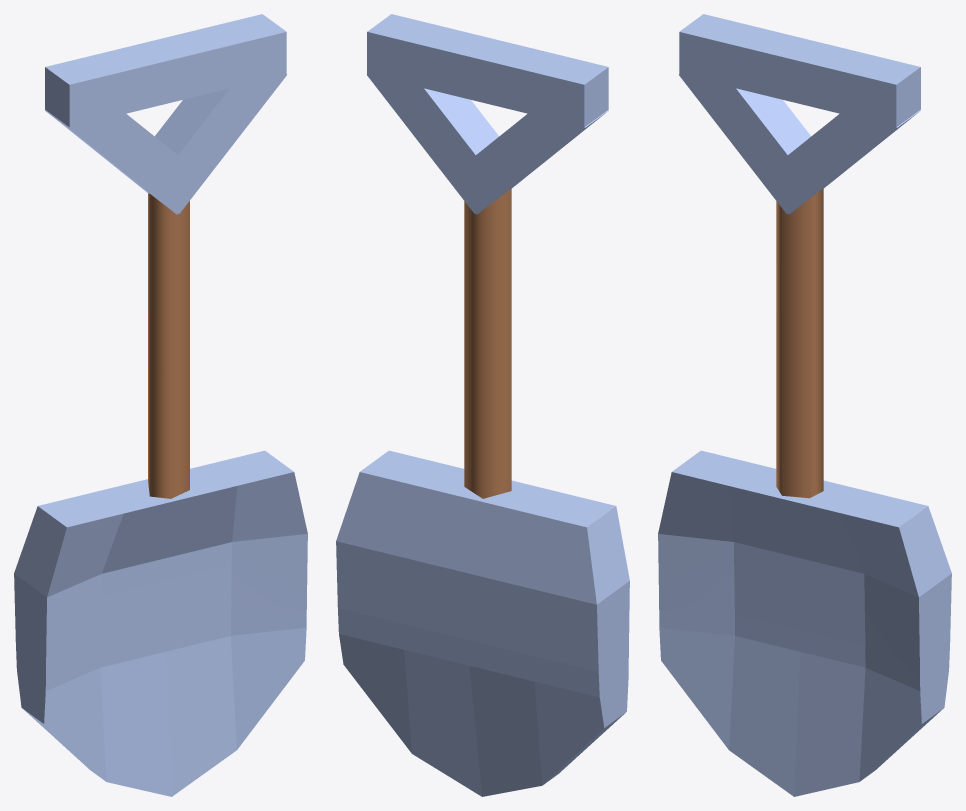
File: shovel.fbx
The picture shows the model from 3 angles, left to right: view 1: azimuth 30°, elevation 25°; view 2: azimuth 150°, elevation 25°; view 3: azimuth 330°, elevation 25°; orthographic projection.
Parts seen in each view (by area): view 1: pCube6; view 2: pCube6; view 3: pCube6.
Part boxes in pixels (x1,y1,x2,y2): pCube6: (14,14,307,796); pCube6: (336,14,629,796); pCube6: (658,14,951,796).
Size of the model in its own units: 0.7178 by 1.95 by 0.1723.
Materials: 2 (2 with a texture image).
